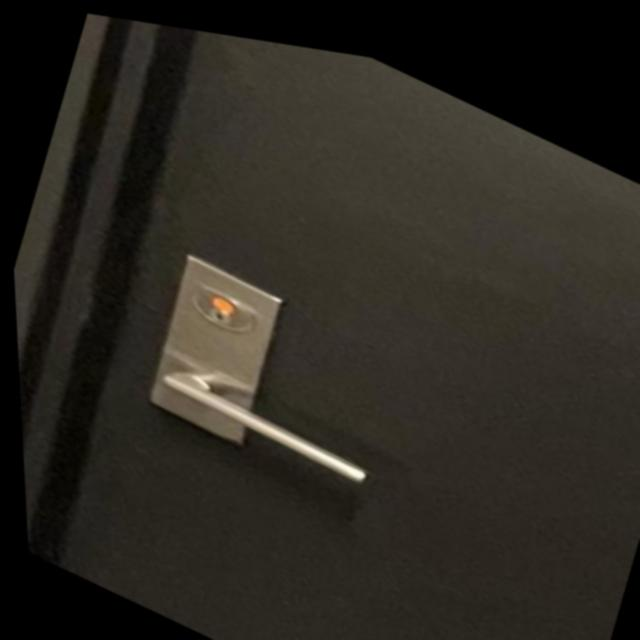door_handle: (98, 304, 412, 515)
